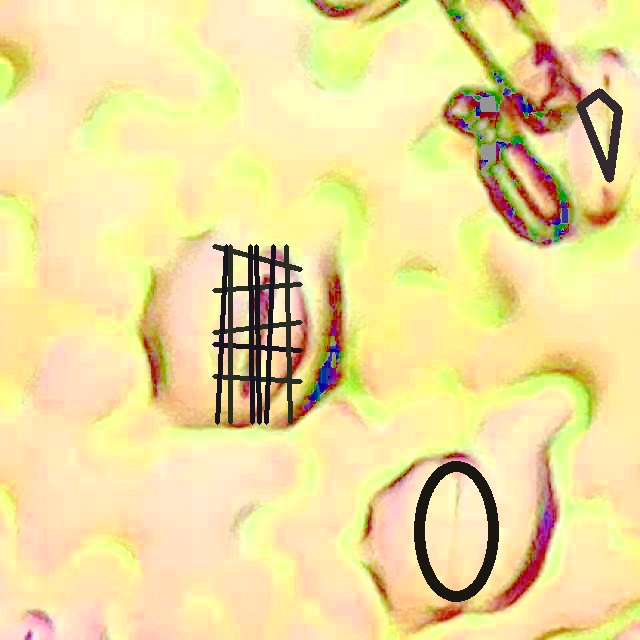close: (414, 461, 498, 602), (577, 88, 621, 181)
open: (213, 244, 302, 423)
